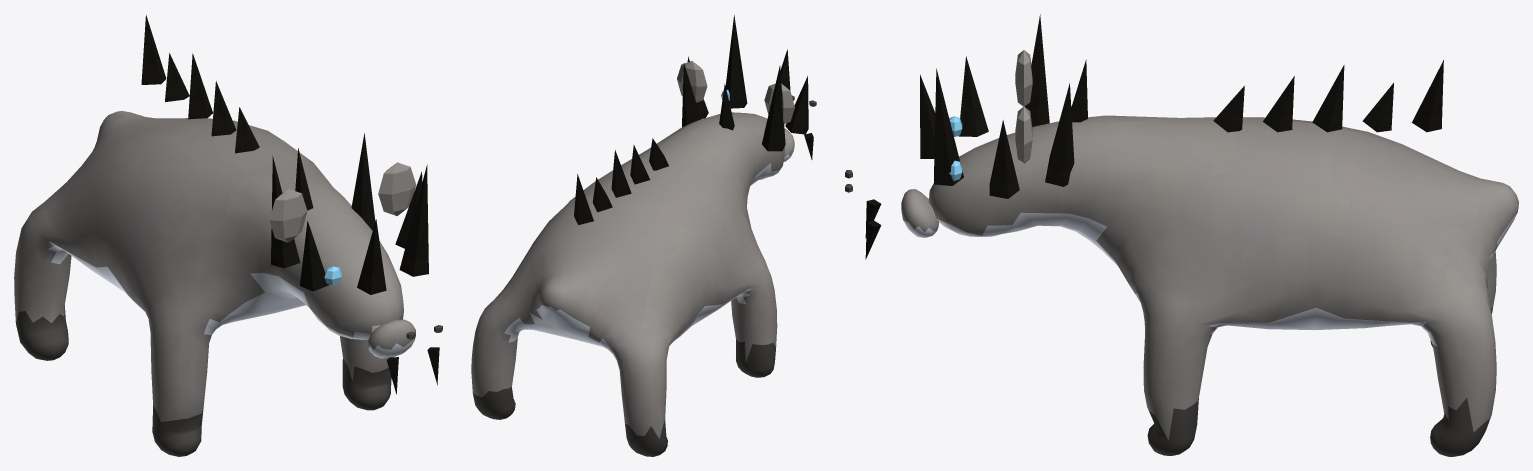
The model's file is mon_sp_snow_bear_king.glb.
3 renders of one model, left to right at view 1: azimuth 30°, elevation 25°; view 2: azimuth 150°, elevation 25°; view 3: azimuth 270°, elevation 25°, orthographic. The views are drawn at different scales.
Parts seen in each view (by area): view 1: mon_sp_snow_bear_king; view 2: mon_sp_snow_bear_king; view 3: mon_sp_snow_bear_king.
Boxes of the visible parts, box(x1,y1,x2,y2) form: mon_sp_snow_bear_king: box(14, 15, 442, 456); mon_sp_snow_bear_king: box(471, 15, 816, 456); mon_sp_snow_bear_king: box(845, 14, 1518, 456).
Size of the model in its own units: 1.62 by 2.22 by 3.77.
Materials: 5 (4 with a texture image).
